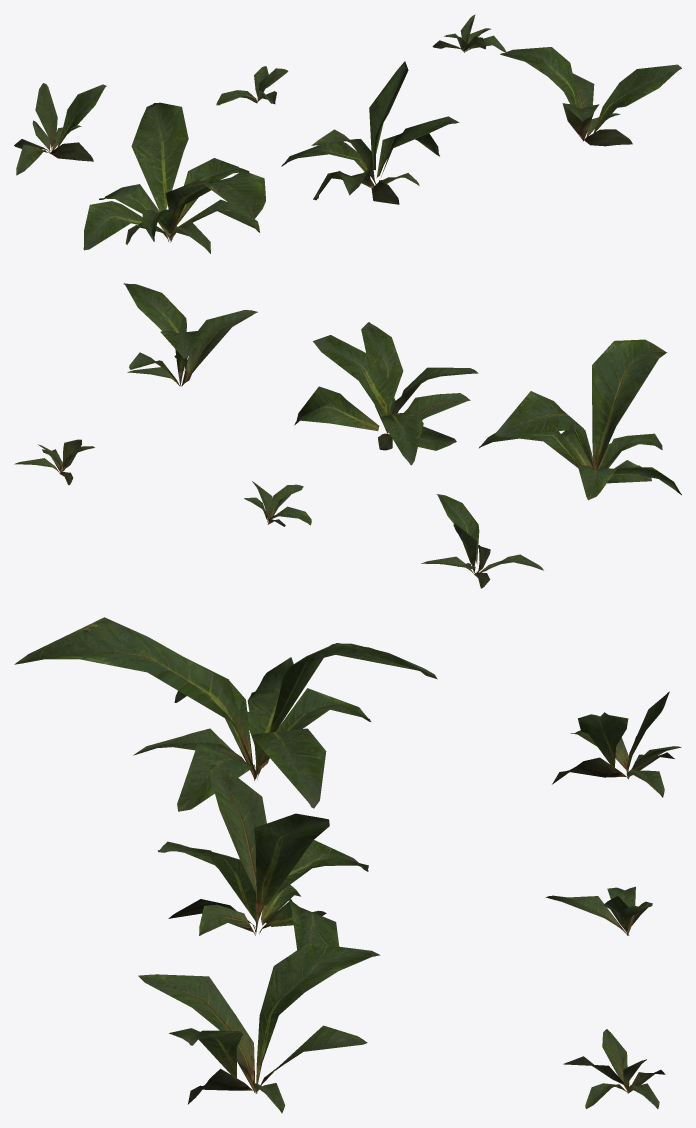
File: anthurium_botany_01.glb
3 views of the same model, one above another, from view 1: azimuth 30°, elevation 25°; view 2: azimuth 150°, elevation 25°; view 3: azimuth 270°, elevation 25° (orthographic). The views are drawn at different scales.
Parts seen in each view (by area): view 1: anthurium_botany_01_a, anthurium_botany_01_b, anthurium_botany_01_c, anthurium_botany_04_d, anthurium_botany_05_e, anthurium_botany_06_f; view 2: anthurium_botany_01_a, anthurium_botany_01_b, anthurium_botany_01_c, anthurium_botany_04_d, anthurium_botany_05_e, anthurium_botany_06_f; view 3: anthurium_botany_01_a, anthurium_botany_01_b, anthurium_botany_01_c, anthurium_botany_04_d, anthurium_botany_06_f, anthurium_botany_05_e.
Part boxes in pixels (left/top/right/bottom): anthurium_botany_01_a: left=83, top=102, right=265, bottom=253; anthurium_botany_01_b: left=281, top=61, right=459, bottom=204; anthurium_botany_01_c: left=500, top=47, right=681, bottom=146; anthurium_botany_04_d: left=14, top=83, right=106, bottom=175; anthurium_botany_05_e: left=216, top=66, right=288, bottom=105; anthurium_botany_06_f: left=432, top=14, right=506, bottom=52; anthurium_botany_01_a: left=479, top=339, right=681, bottom=500; anthurium_botany_01_b: left=294, top=322, right=478, bottom=465; anthurium_botany_01_c: left=123, top=283, right=257, bottom=386; anthurium_botany_04_d: left=421, top=494, right=543, bottom=588; anthurium_botany_05_e: left=244, top=481, right=311, bottom=526; anthurium_botany_06_f: left=14, top=439, right=94, bottom=485; anthurium_botany_01_a: left=14, top=617, right=437, bottom=811; anthurium_botany_01_b: left=157, top=762, right=368, bottom=949; anthurium_botany_01_c: left=138, top=943, right=380, bottom=1113; anthurium_botany_04_d: left=552, top=691, right=681, bottom=797; anthurium_botany_06_f: left=563, top=1029, right=665, bottom=1108; anthurium_botany_05_e: left=546, top=886, right=652, bottom=935.
Bounding box in the file's own units: 2.79 × 0.4982 × 1.8.
Materials: 1 (1 with a texture image).
